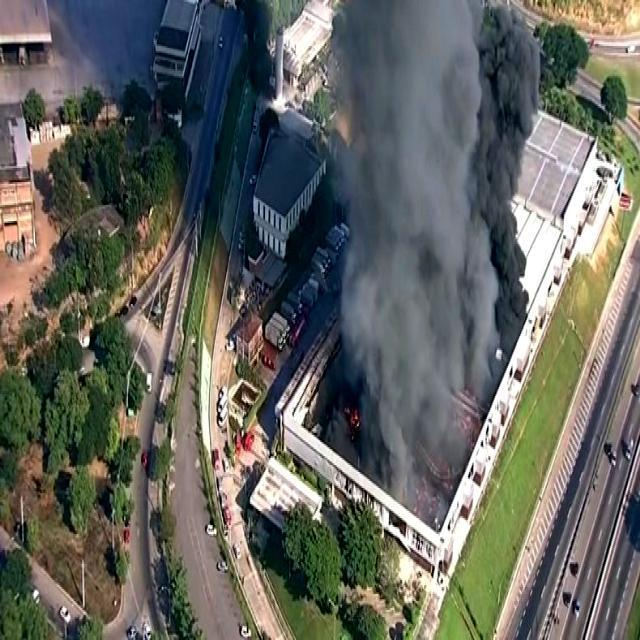Smoke: (313, 0, 541, 528)
